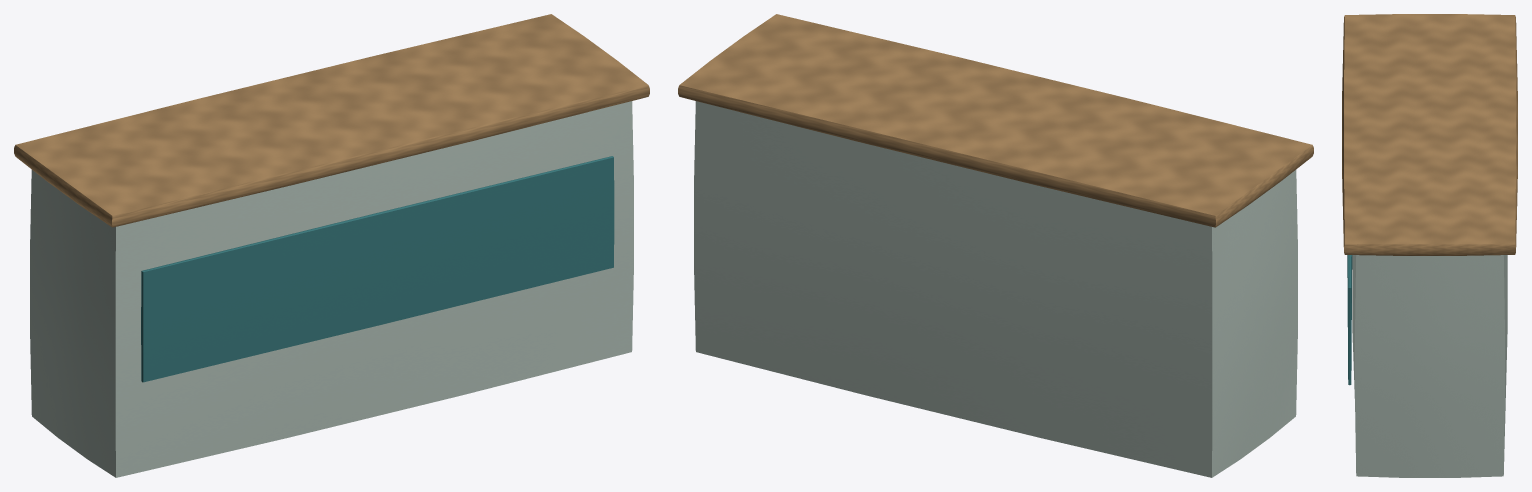
The model's file is reception-desk.glb.
The picture shows the model from 3 angles, left to right: view 1: azimuth 30°, elevation 25°; view 2: azimuth 150°, elevation 25°; view 3: azimuth 270°, elevation 25°; orthographic projection. The views are drawn at different scales.
Visible parts, largest first — view 1: reception-desk; view 2: reception-desk; view 3: reception-desk.
Part boxes in pixels (box(x1,y1,x2,y2)): reception-desk: box(14, 14, 649, 477); reception-desk: box(678, 14, 1313, 477); reception-desk: box(1342, 14, 1517, 477).
Size of the model in its own units: 2.12 by 1.03 by 0.6796.
Materials: 3 (3 with a texture image).
